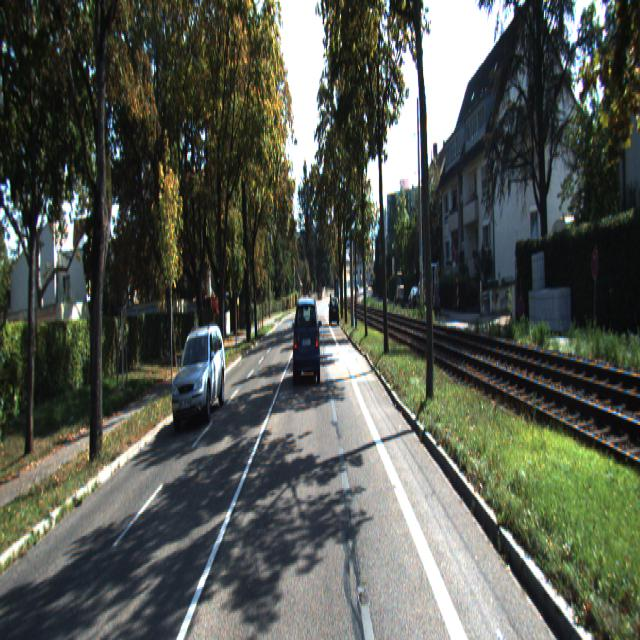Car: (170, 322, 227, 428), (293, 302, 322, 394), (329, 302, 340, 331)
